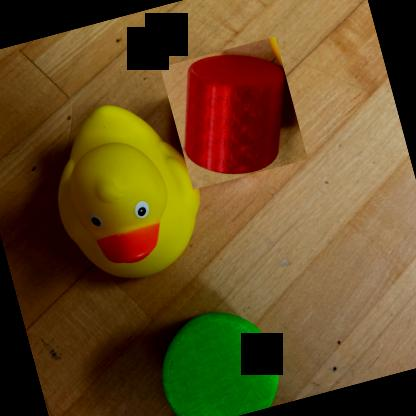duck: (30, 84, 218, 300)
green cylinder: (142, 294, 290, 416)
red cylinder: (159, 36, 308, 189)
